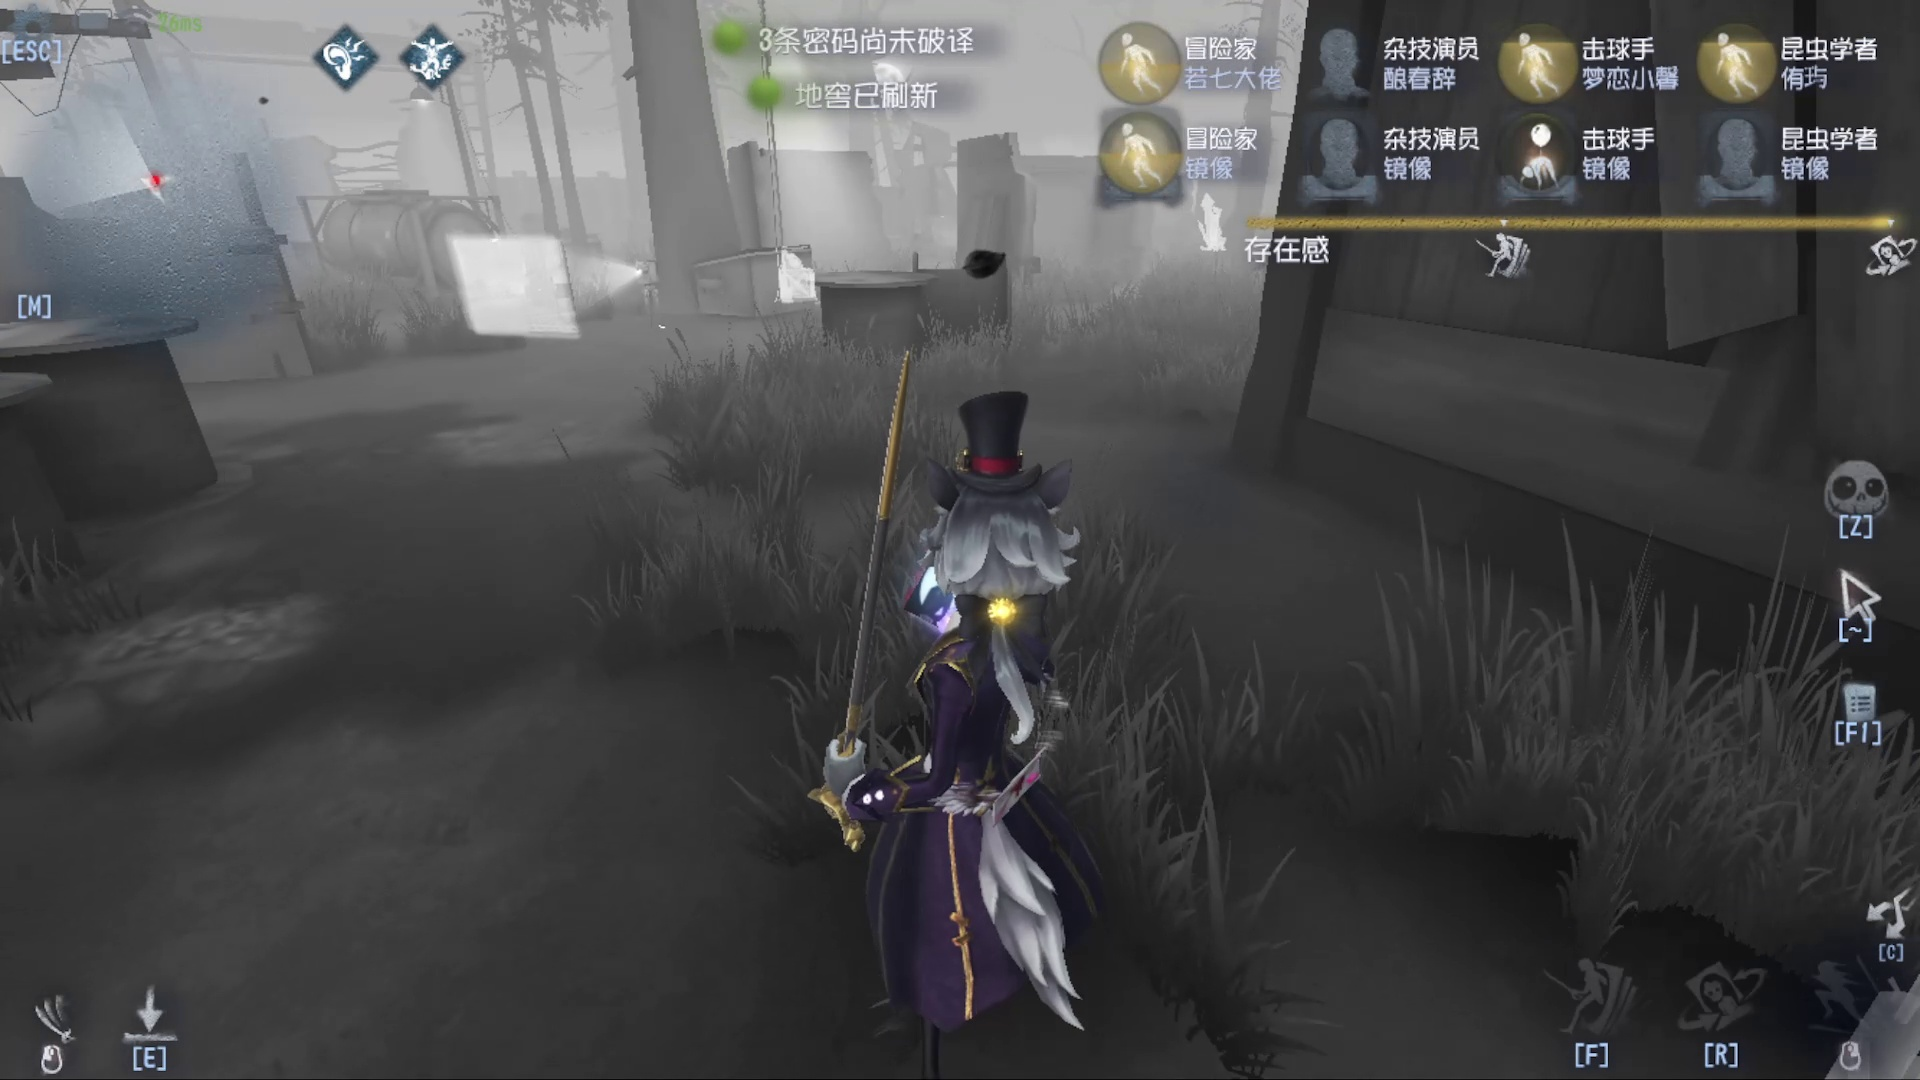狂欢之椅: (1185, 178, 1246, 272)
